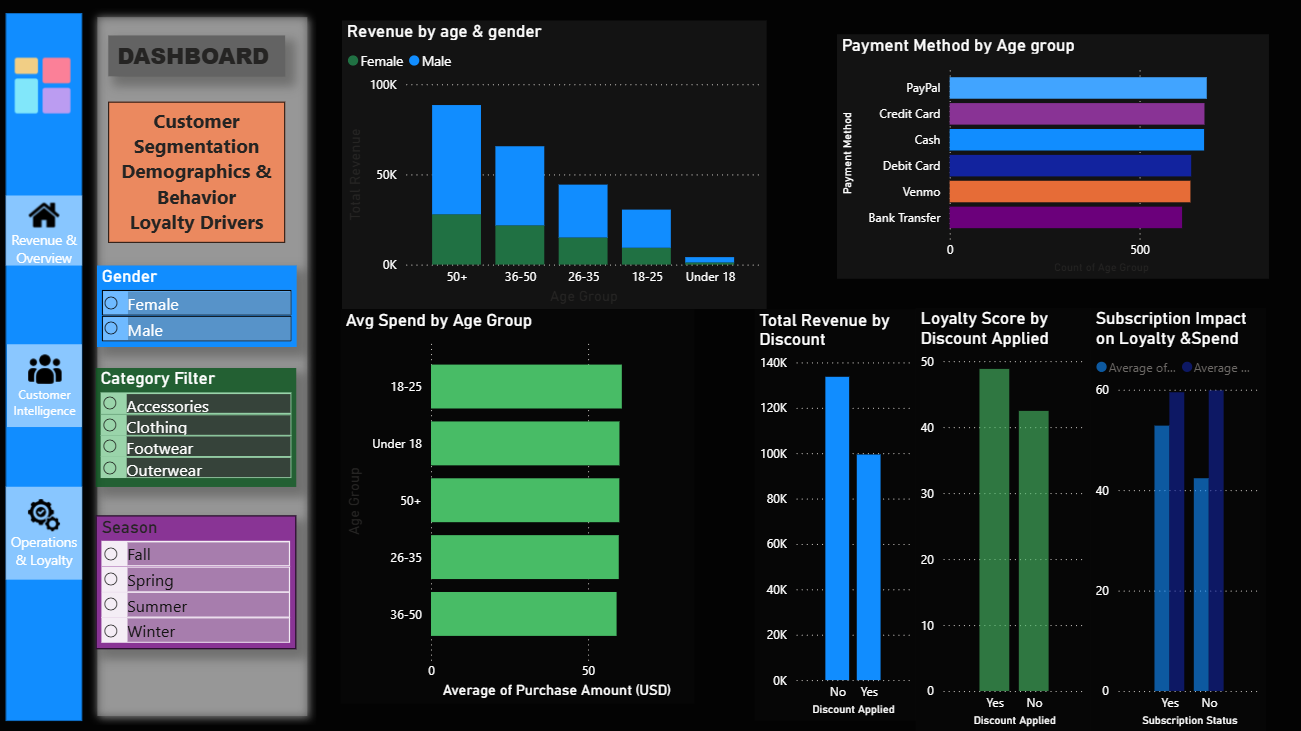

What the dashboard file says about the page in this screenshot:
{"tool":"powerbi","page":{"name":"Page 2","canvas":[1280,720],"ordinal":1},"visuals":[{"type":"columnChart","title":"Revenue by age & gender ","fields":{"Category":["shopping.Age Group"],"Series":["shopping.Gender"],"Y":["shopping.Total Revenue"]},"box":[338.3,21.7,416.7,283.3],"z":0},{"type":"shape","box":[8.8,15,75,695],"z":1000},{"type":"barChart","title":"Avg Spend by Age Group","fields":{"Y":["Avg(shopping.Purchase Amount (USD))"],"Category":["shopping.Age Group"]},"box":[337.5,305,347.5,387.5],"z":2000},{"type":"barChart","title":"Payment Method by Age group","fields":{"Category":["shopping.Payment Method"],"Series":["shopping.Payment Method"],"Y":["CountNonNull(shopping.Age Group)"]},"box":[824,36,424,240],"z":3000},{"type":"clusteredColumnChart","title":" Loyalty Score by Discount Applied","fields":{"Category":["shopping.Discount Applied"],"Y":["Avg(shopping.Loyalty Score)"]},"box":[902,304,172,416],"z":4000},{"type":"clusteredColumnChart","title":"Total Revenue by Discount ","fields":{"Category":["shopping.Discount Applied"],"Y":["shopping.Total Revenue"]},"box":[744,306,158,404],"z":5000},{"type":"shape","box":[90,10,224,704],"z":6000},{"type":"clusteredColumnChart","title":"Subscription Impact on Loyalty &Spend","fields":{"Y":["Avg(shopping.Loyalty Score)","Avg(shopping.Purchase Amount (USD))"],"Category":["shopping.Subscription Status"]},"box":[1074,304,172,416],"z":8000},{"type":"listSlicer","title":"Category Filter","fields":{"Values":["shopping.Category"]},"box":[97.1,362.9,197.1,117.1],"z":9000},{"type":"listSlicer","fields":{"Values":["shopping.Gender"]},"box":[98.2,262.7,196.4,80],"z":10000},{"type":"listSlicer","fields":{"Values":["shopping.Season"]},"box":[97.1,508.6,197.1,131.4],"z":11000},{"type":"actionButton","box":[8.8,193.8,75,68.8],"z":12000},{"type":"actionButton","box":[10,340,73.8,81.2],"z":13000},{"type":"actionButton","box":[8.8,480,75,91.2],"z":14001},{"type":"actionButton","box":[12.5,47.5,65,76.2],"z":14002},{"type":"textbox","box":[108.8,36.2,173.8,40],"z":14003},{"type":"textbox","box":[108.8,101.2,173.8,138.8],"z":14004}]}

Visuals, with their boxes on the page's 1280x720 design canvas (x1, y1, x2, y2). These are canvas units, not pixel positions in the 1301x731 screenshot, which may show the page scaled, cropped or inside an application window:
"Revenue by age & gender " columnChart: [338, 22, 755, 305]
shape: [9, 15, 84, 710]
"Avg Spend by Age Group" barChart: [338, 305, 685, 692]
"Payment Method by Age group" barChart: [824, 36, 1248, 276]
" Loyalty Score by Discount Applied" clusteredColumnChart: [902, 304, 1074, 720]
"Total Revenue by Discount " clusteredColumnChart: [744, 306, 902, 710]
shape: [90, 10, 314, 714]
"Subscription Impact on Loyalty &Spend" clusteredColumnChart: [1074, 304, 1246, 720]
"Category Filter" listSlicer: [97, 363, 294, 480]
listSlicer - shopping.Gender: [98, 263, 295, 343]
listSlicer - shopping.Season: [97, 509, 294, 640]
actionButton: [9, 194, 84, 263]
actionButton: [10, 340, 84, 421]
actionButton: [9, 480, 84, 571]
actionButton: [12, 48, 78, 124]
textbox: [109, 36, 283, 76]
textbox: [109, 101, 283, 240]
